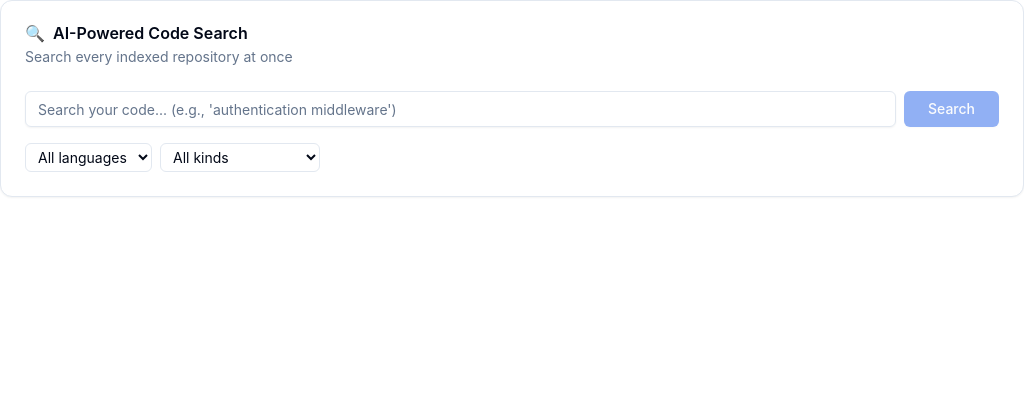
Scenario: SearchInterface states › searches every repository without one, linking each hit to its own
Type "store" into the dropdown named "search query". click: point(460, 109)
box: [25,91,896,127]
Then press Enter
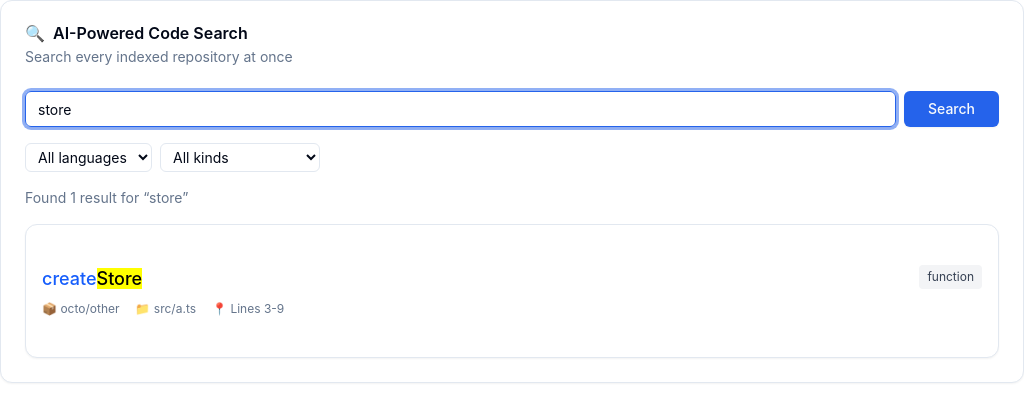
Expected: the text "Store" is shown, [96,268,142,289]
Expected: the text "📦 octo/other" is shown, [42,301,120,317]
